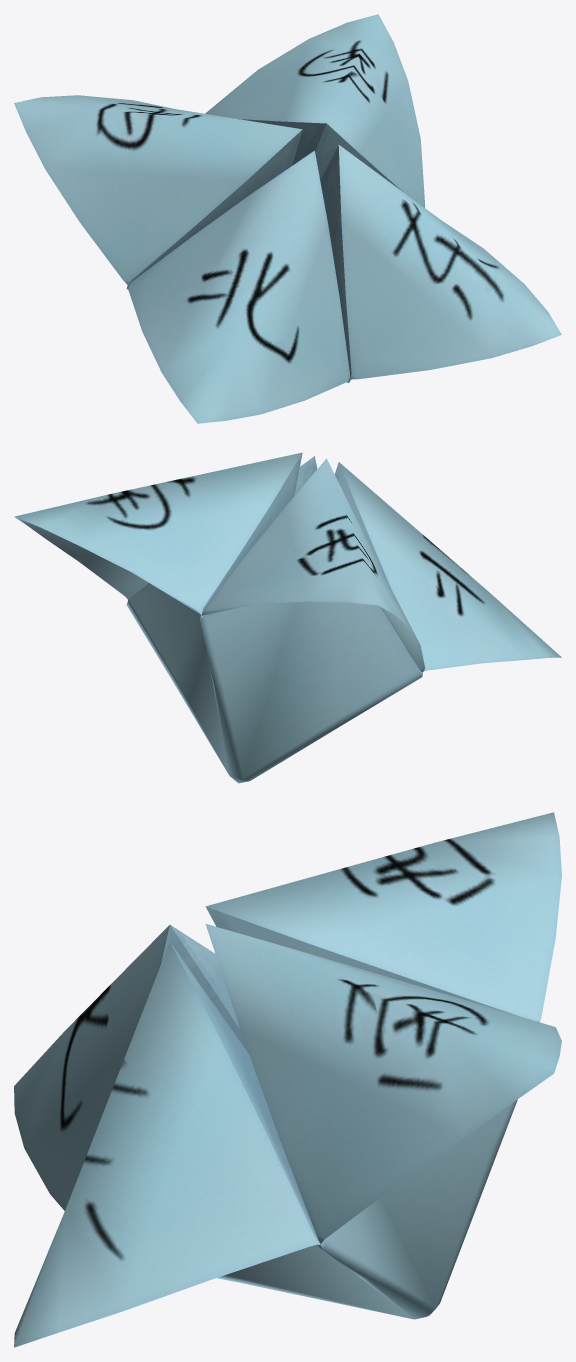
File: ref_gtpaperfortune.glb
The picture shows the model from 3 angles, top to bottom: view 1: azimuth 30°, elevation 25°; view 2: azimuth 150°, elevation 25°; view 3: azimuth 270°, elevation 25°; orthographic projection. The views are drawn at different scales.
Visible parts, largest first — view 1: ref_gtpaperfortune; view 2: ref_gtpaperfortune; view 3: ref_gtpaperfortune.
Boxes of the visible parts, bbox=[...] form: ref_gtpaperfortune: bbox=[14, 14, 561, 423]; ref_gtpaperfortune: bbox=[14, 452, 561, 783]; ref_gtpaperfortune: bbox=[14, 812, 561, 1347].
Size of the model in its own units: 1 by 0.7107 by 0.8775.
1 material, 1 textured.
